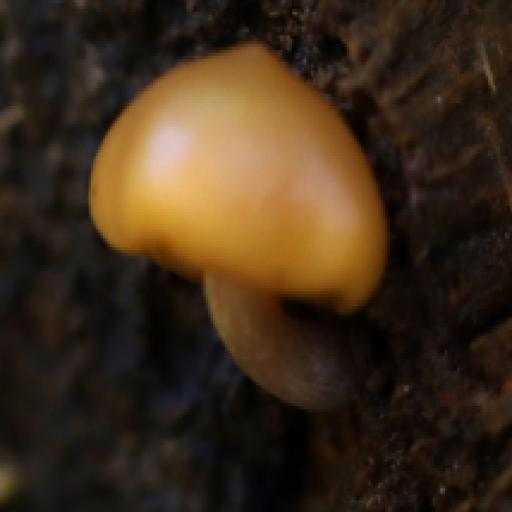mushroom: (83, 30, 412, 409)
